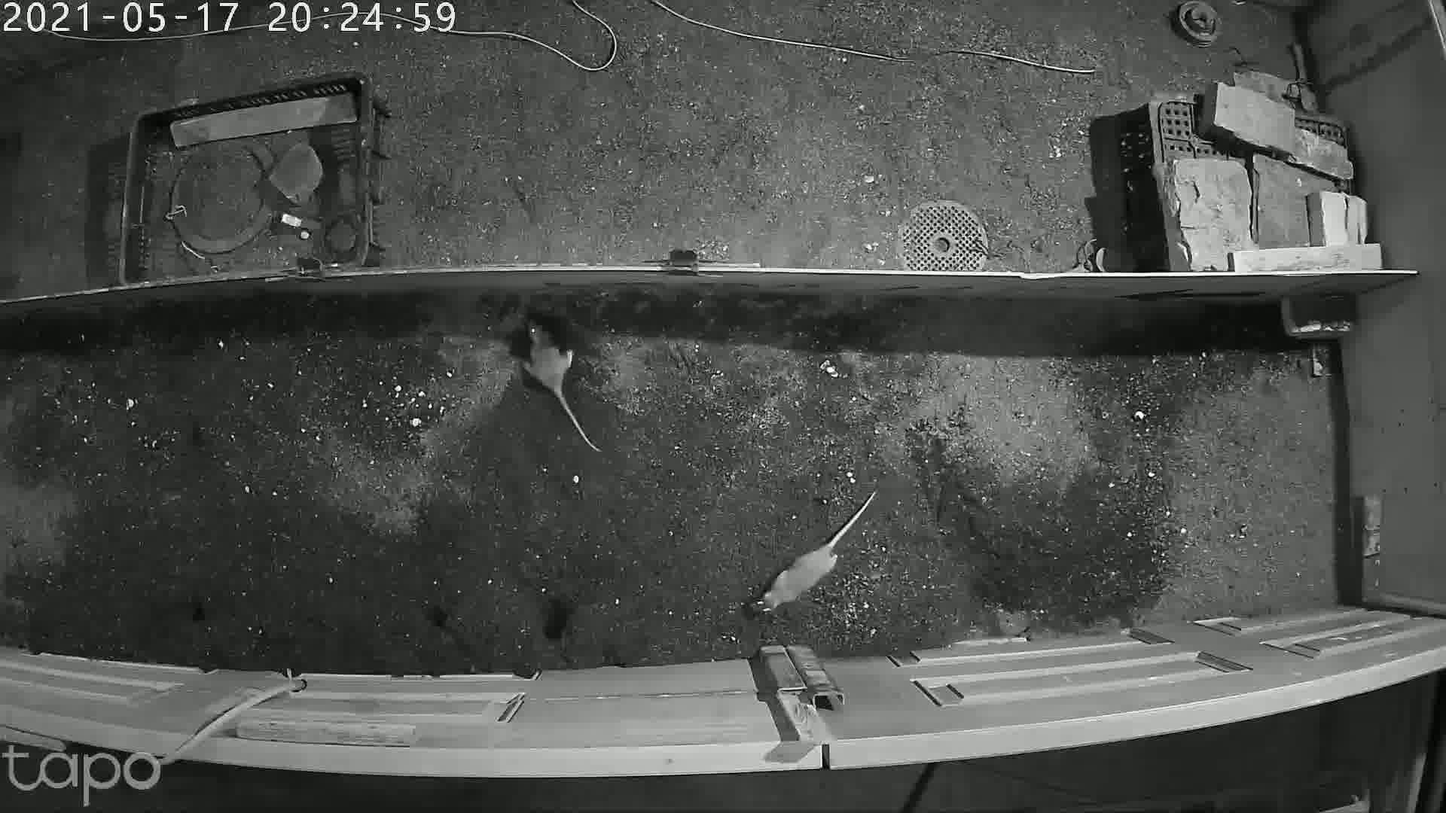rat: (725, 502, 901, 623), (519, 303, 591, 459)
